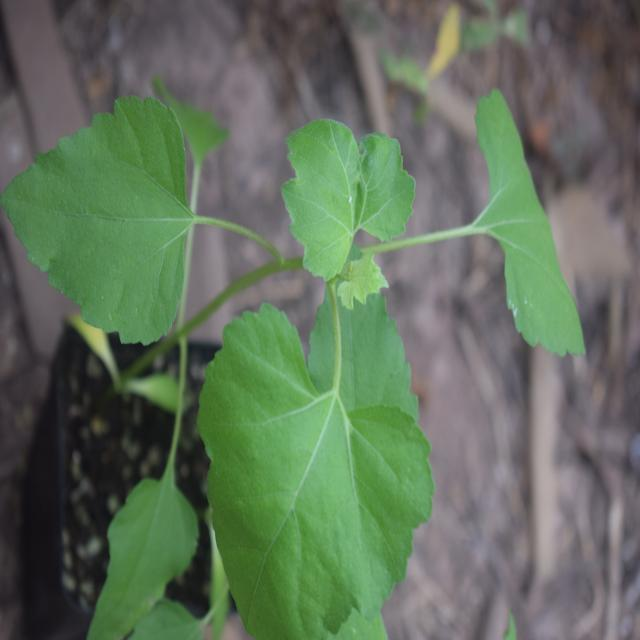cocklebur: (28, 79, 557, 592)
